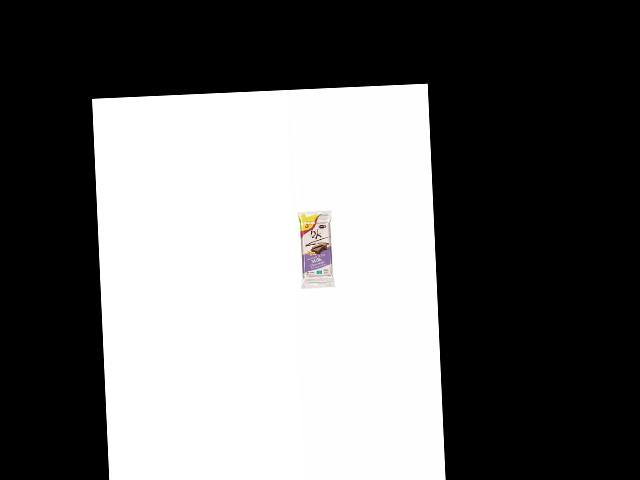chocolate: (295, 208, 338, 289)
